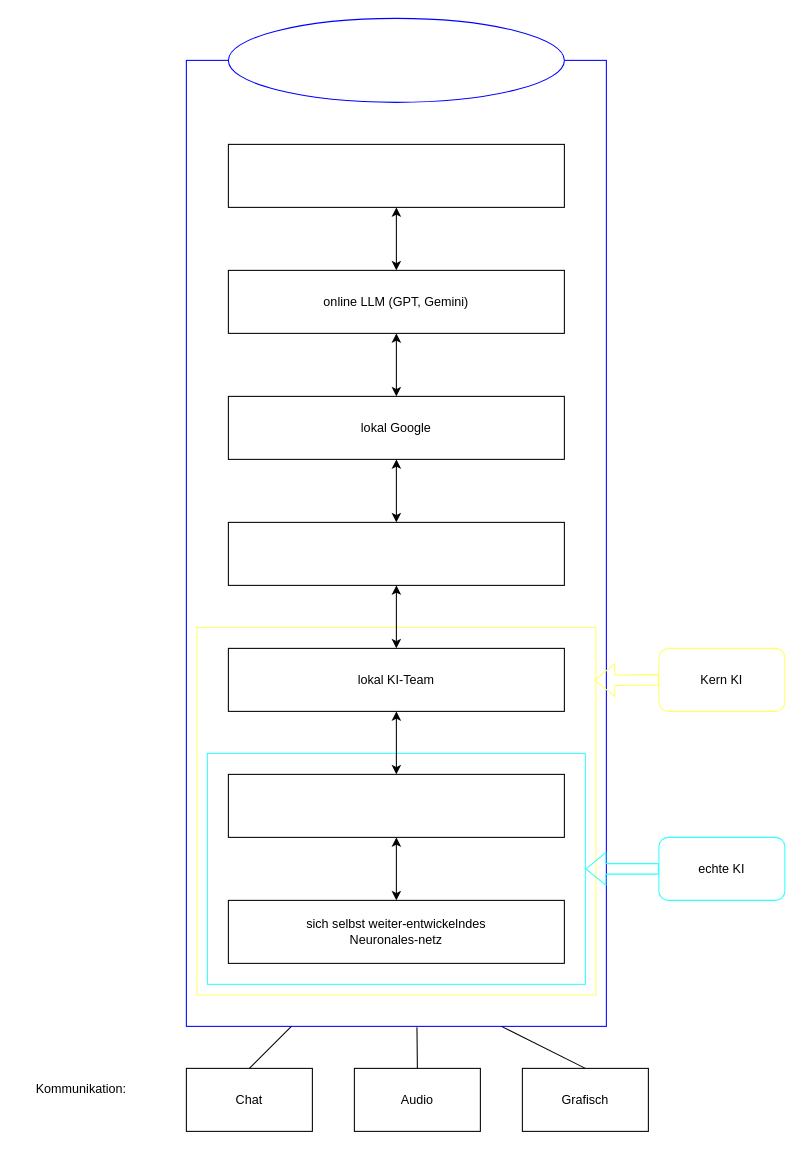
Image size: 803x1150. Some labels were removed from this diagram. The shapes that lost their labels are listed below. From the top down, each one's box as (x1, y1, x2, y2) in pixels, then its label:
(227, 17, 564, 102): KI
(227, 143, 564, 207): Internet (Google)
(227, 521, 564, 585): lokal LLM
(227, 773, 564, 837): Erinnerungen MarineDB
